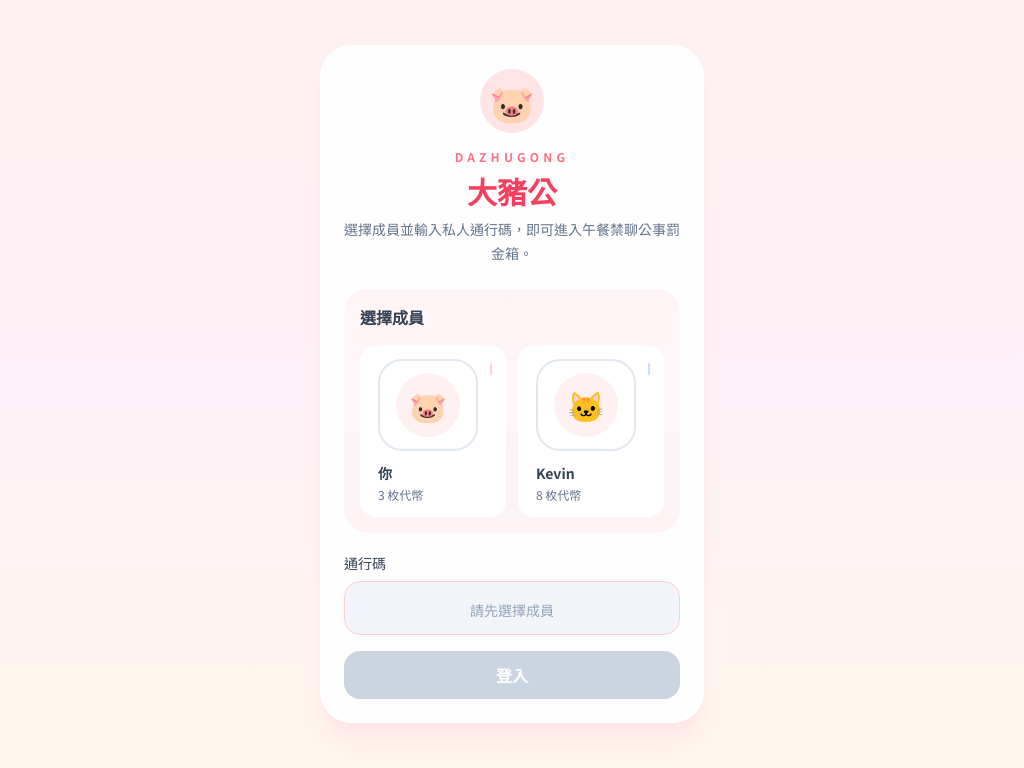
Test: Login › shows the throttled message when the backend locks out repeated attempts
Click the button with aria-label "選擇成員 你" at (433, 431), box [360,345,506,517]
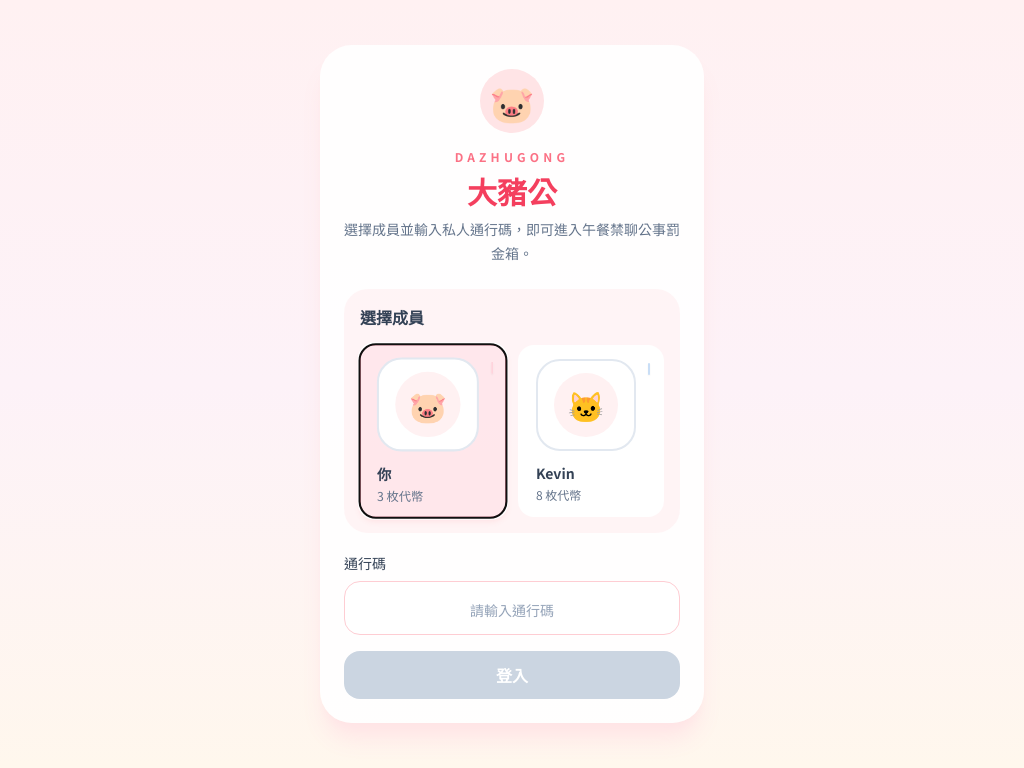
Type "Wrong!Access9X" into the password field labelled "通行碼" at (512, 608), box [344,581,680,635]
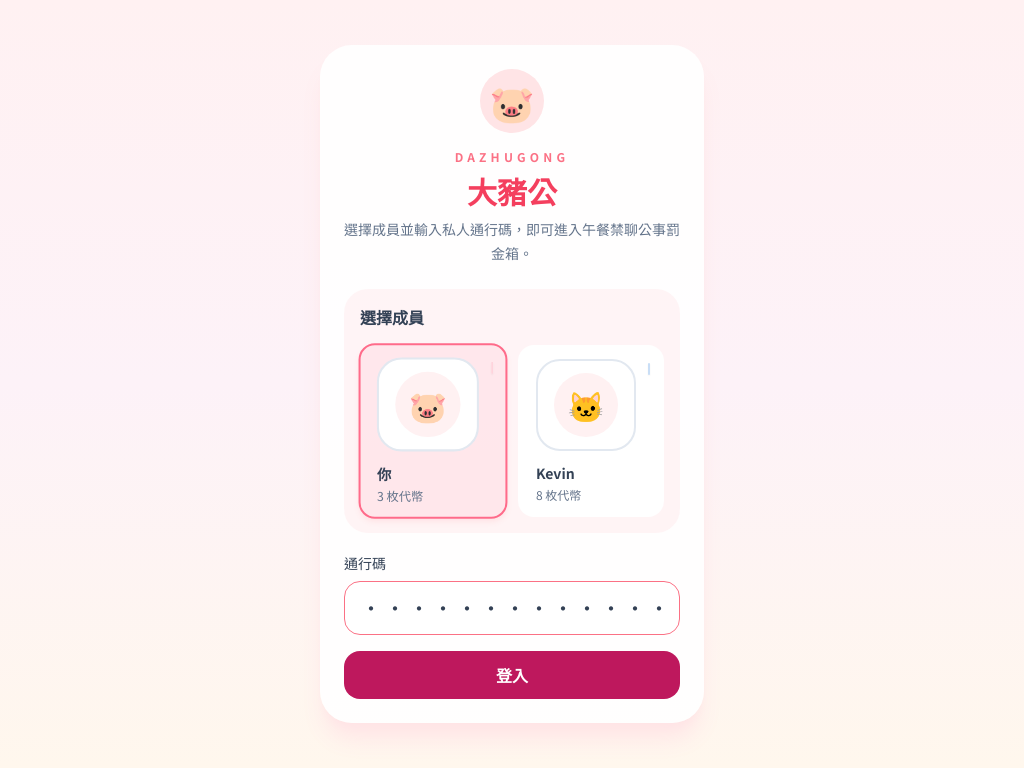
Click the button "登入" at (512, 675), box [344,651,680,699]
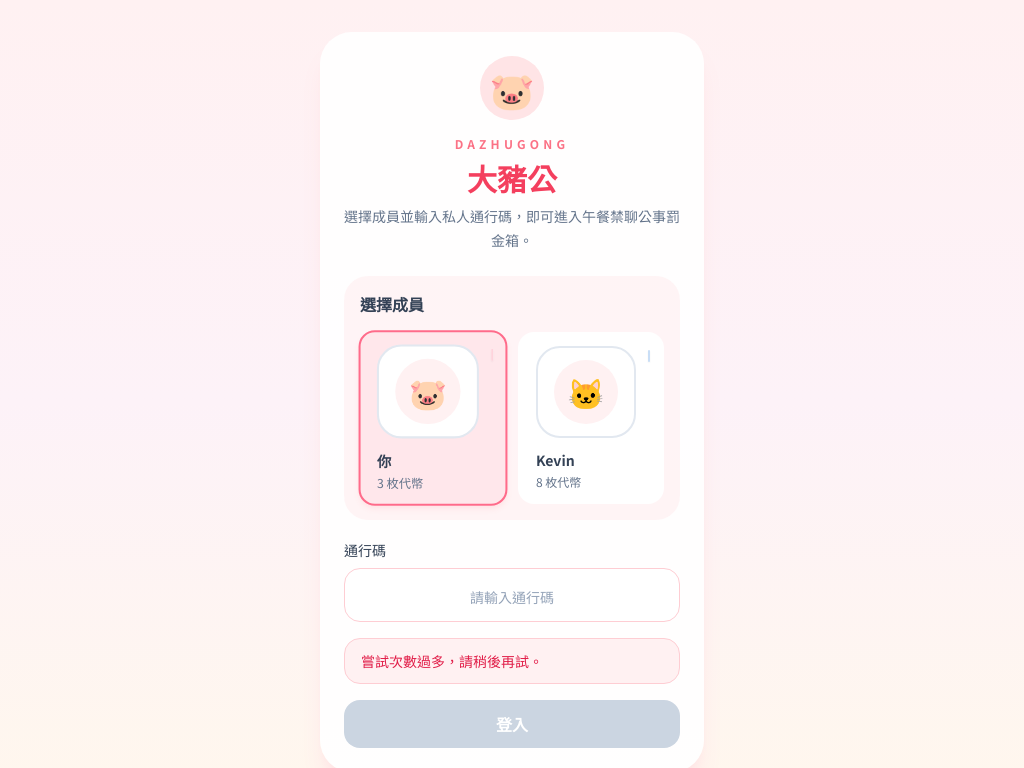
Result: the message shows "嘗試次數過多" at [361,651,543,671]
